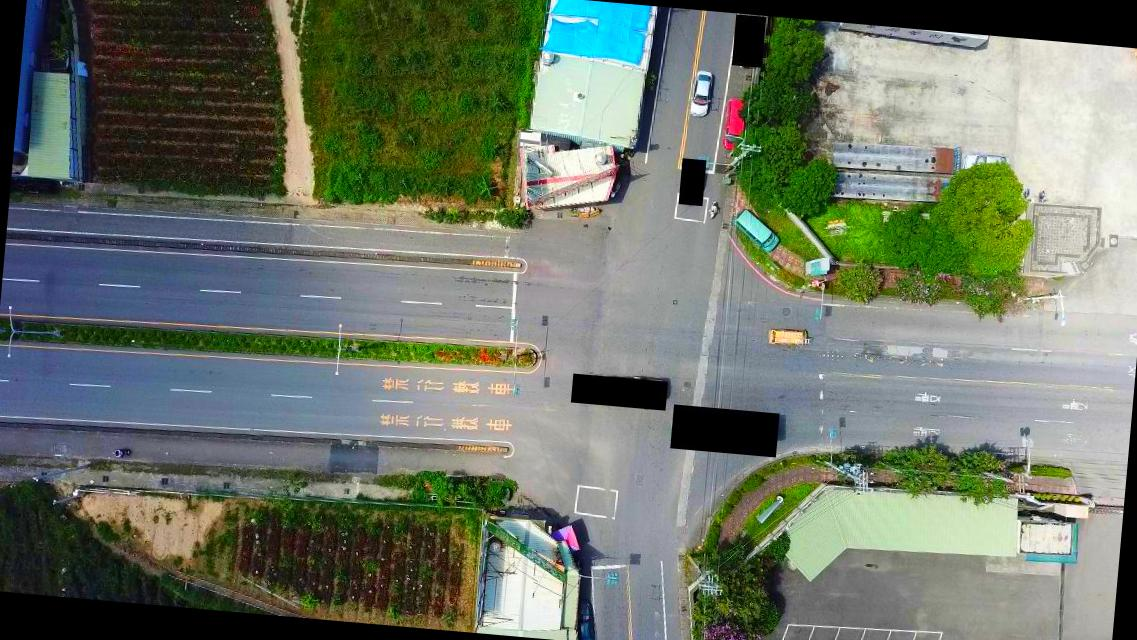vehicle: (735, 207, 782, 254), (684, 68, 715, 118), (722, 99, 746, 150), (960, 152, 1007, 176), (572, 599, 598, 639), (768, 328, 812, 351)
